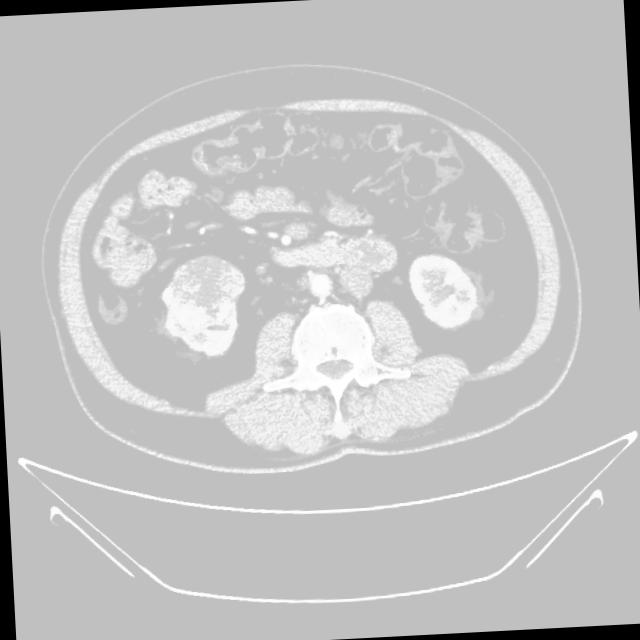TUMOR: (91, 138, 426, 339)
